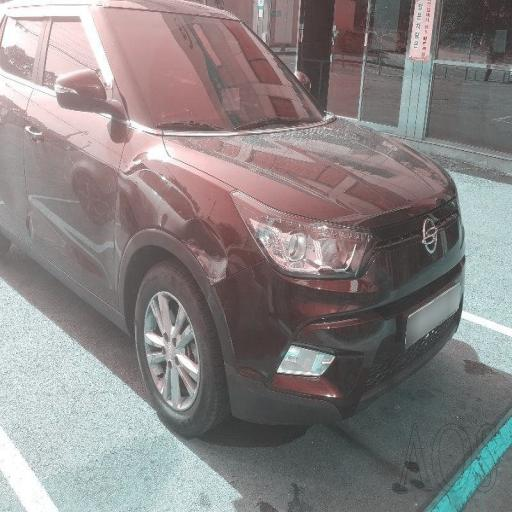broken: (288, 250, 401, 350)
dent: (129, 157, 245, 296)
